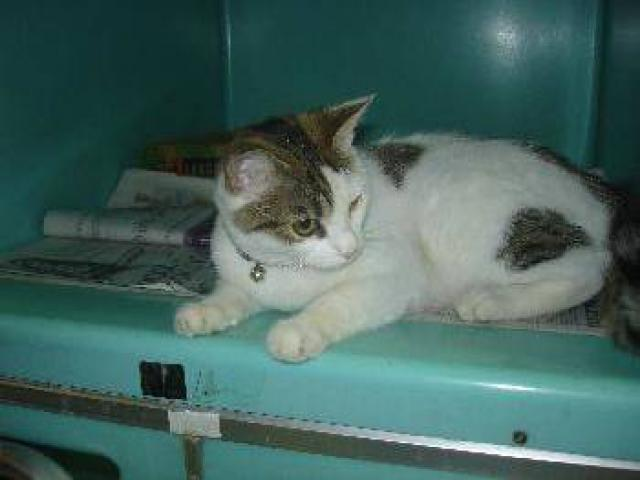cat: (181, 91, 636, 366)
